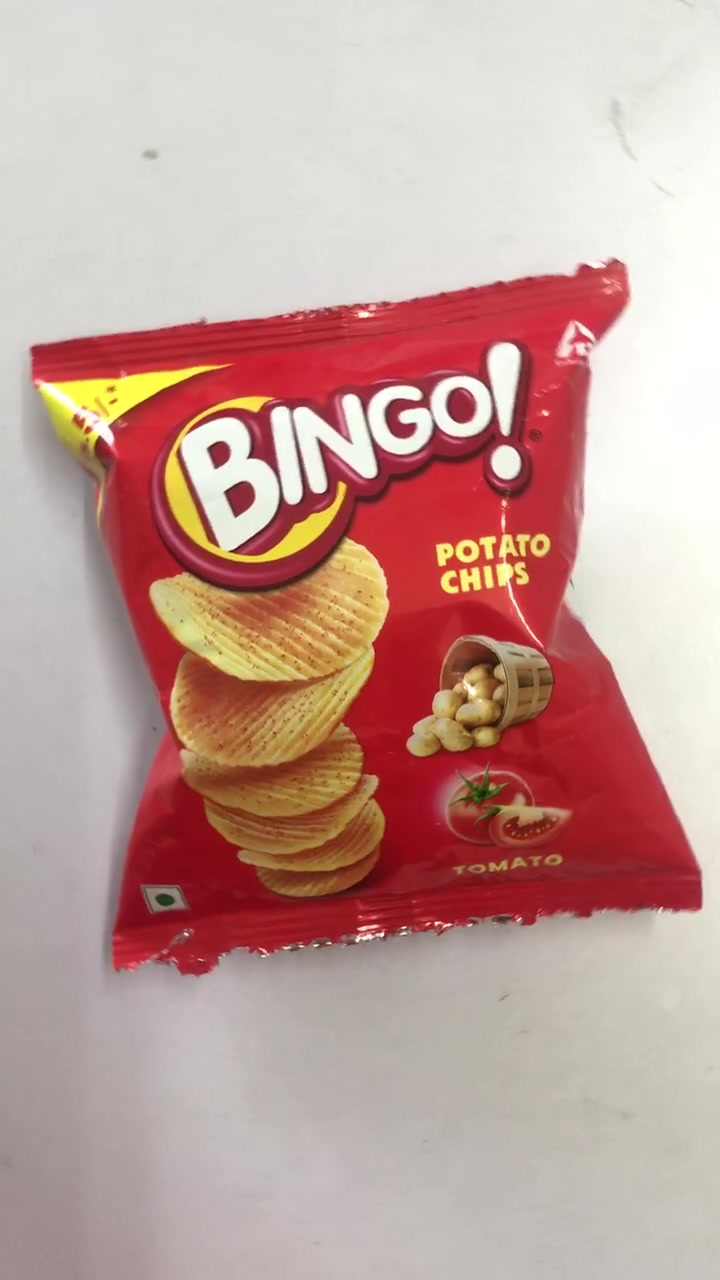Bingo: (34, 337, 687, 907)
